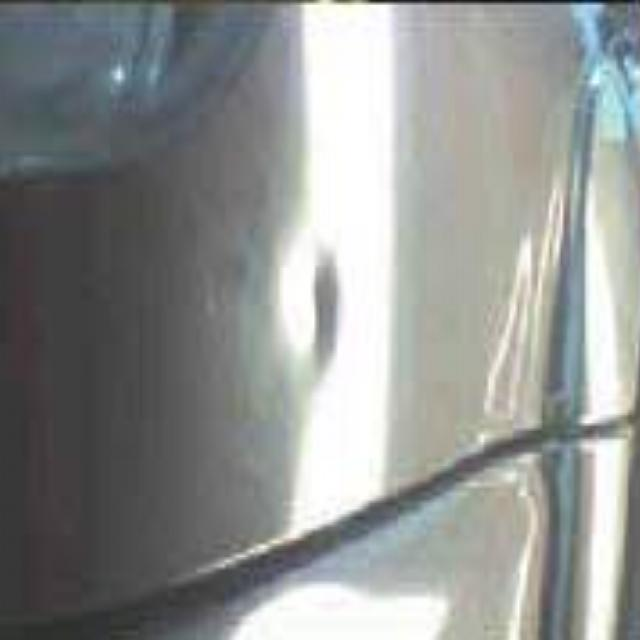dents: (264, 220, 378, 383)
